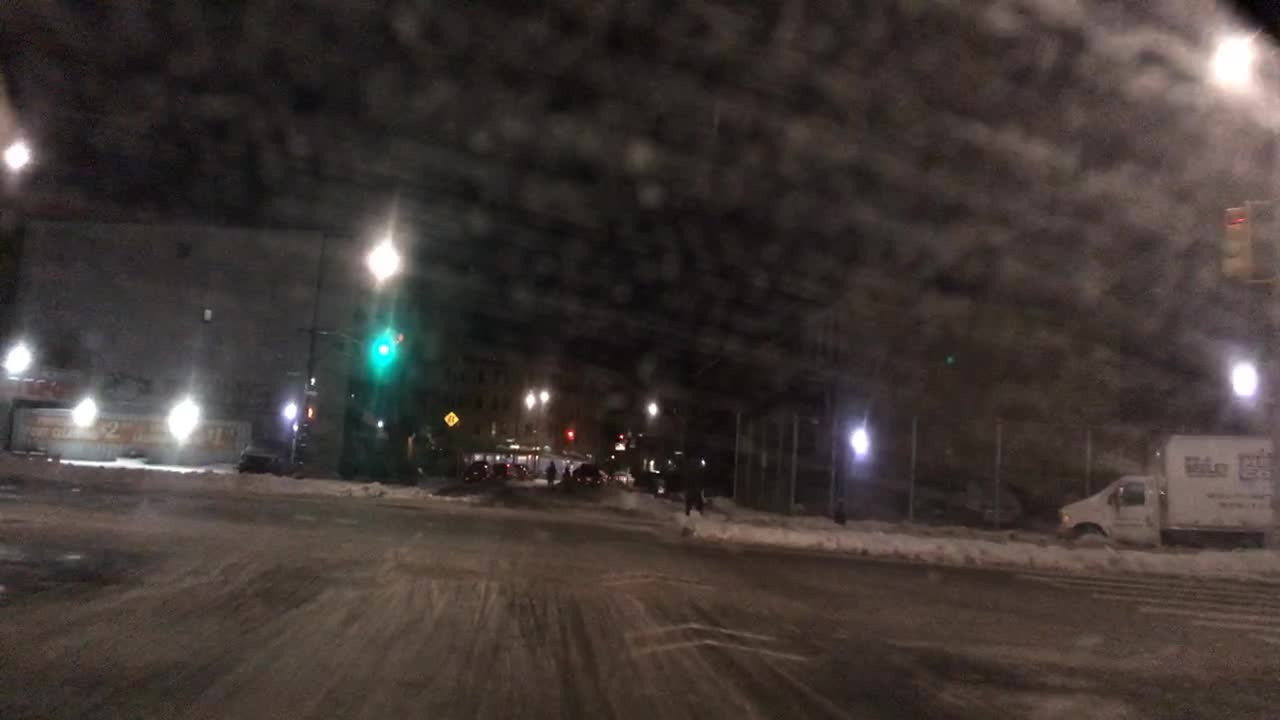car: (338, 446, 421, 483), (236, 437, 291, 474), (572, 462, 609, 487), (461, 460, 492, 488), (611, 468, 640, 489), (515, 461, 533, 478), (493, 462, 512, 478)
person: (678, 447, 708, 516), (543, 459, 557, 488), (561, 464, 573, 489)
traffic light: (1221, 205, 1246, 277), (390, 326, 405, 359), (377, 329, 390, 362), (302, 405, 318, 418), (565, 427, 575, 438)
traffic sign: (440, 410, 460, 427)
truck: (1049, 429, 1279, 552)
